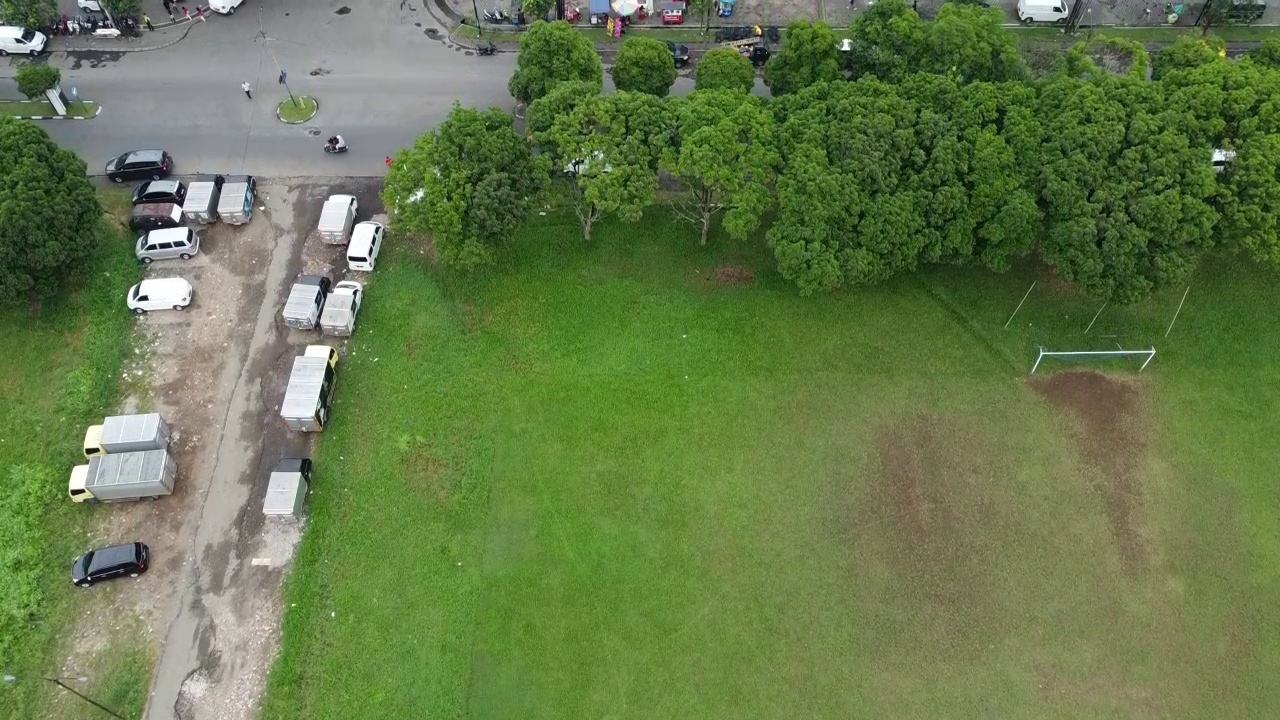mobil: (73, 541, 154, 589), (103, 145, 177, 181), (127, 275, 196, 313), (348, 216, 388, 277), (136, 226, 202, 262), (130, 198, 186, 231), (1, 22, 48, 60), (133, 177, 189, 205)
